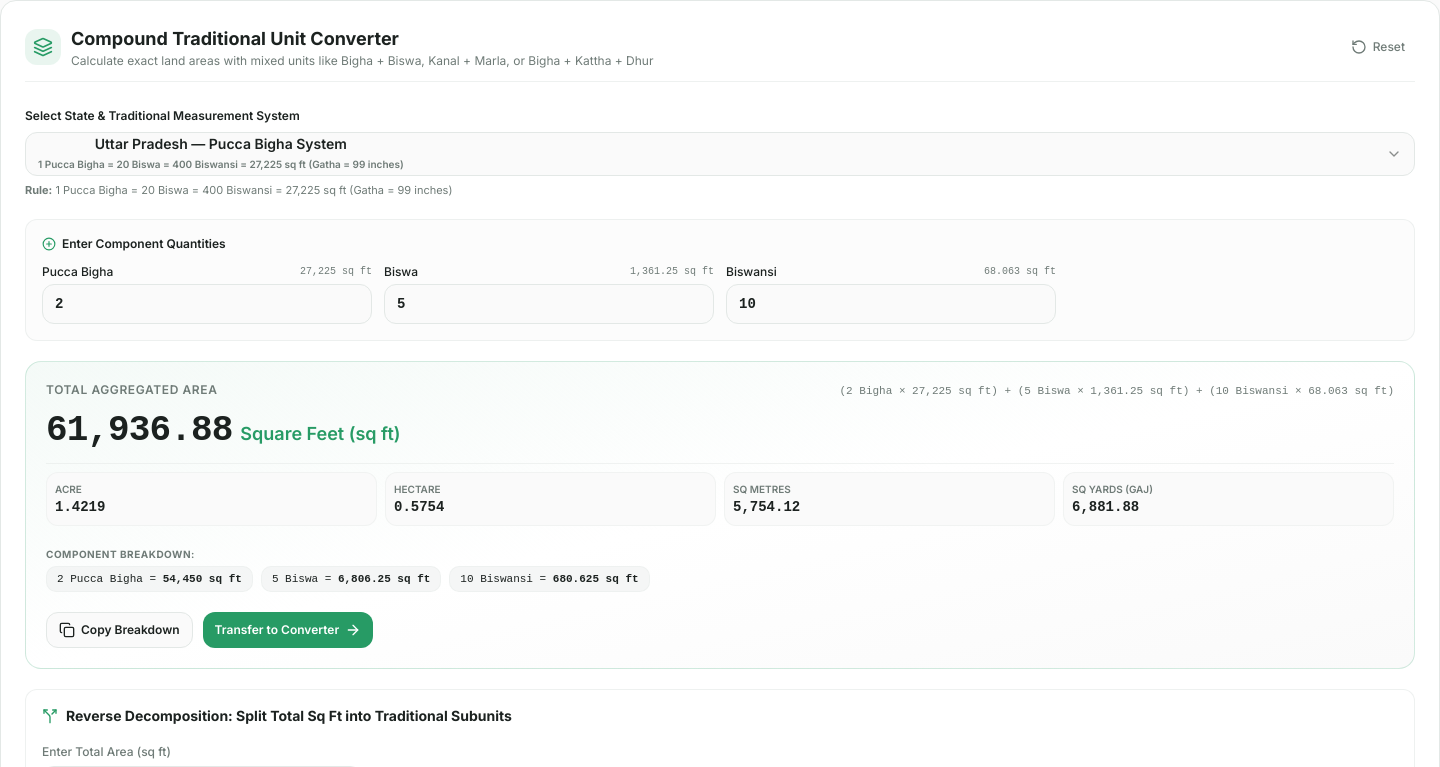
Test: PR #2 Pre-Merge Remediation Suite › Compound Quantity Validation & TypeScript Integrity (COMPOUND-001 - COMPOUND-019, TYPE-001 - TYPE-002) › COMPOUND-019: Valid zeros remain distinct from invalid input
Replace the text in the field labelled "Pucca Bigha" with "0" at [207, 304], box [42,284,372,324]
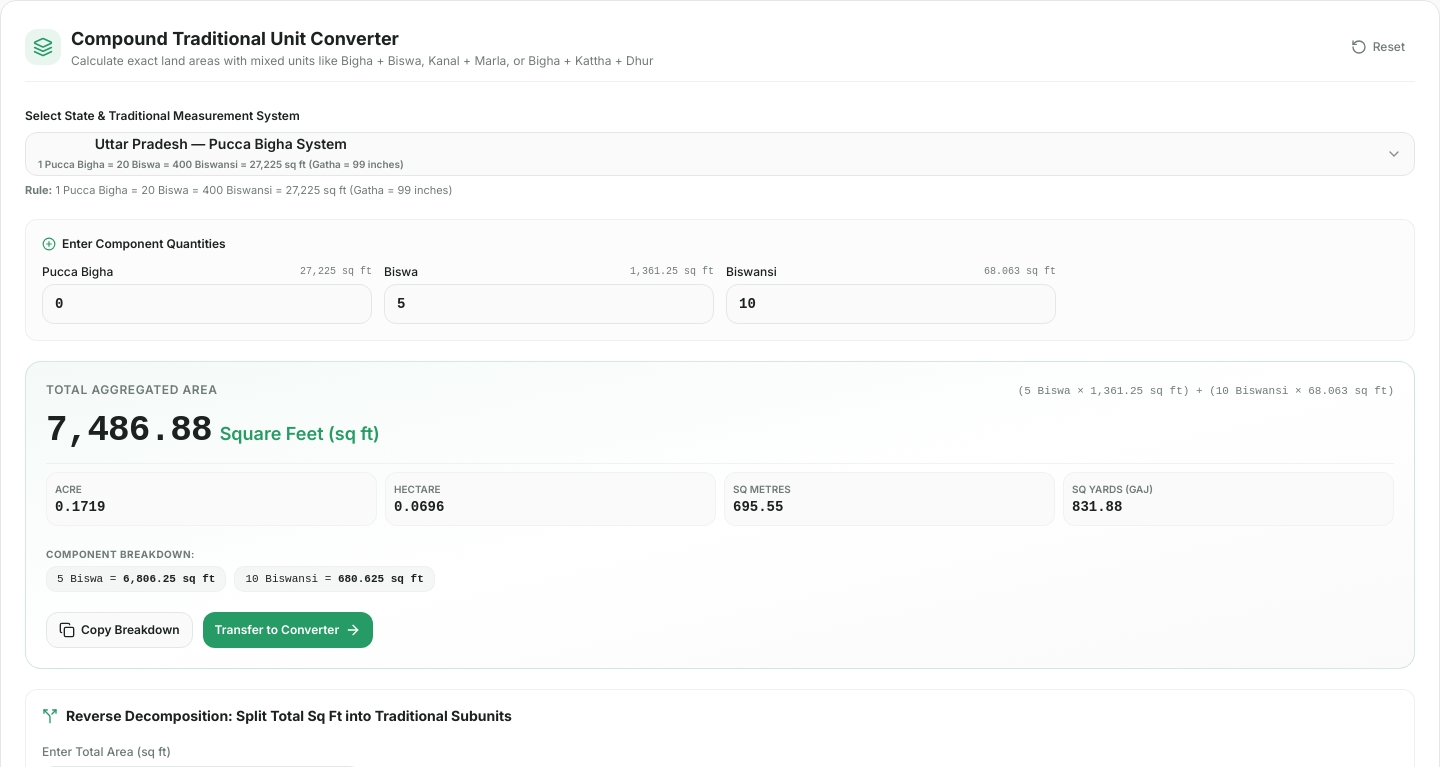
Type "invalid" into the field labelled "Pucca Bigha" at [207, 304], box [42,284,372,324]
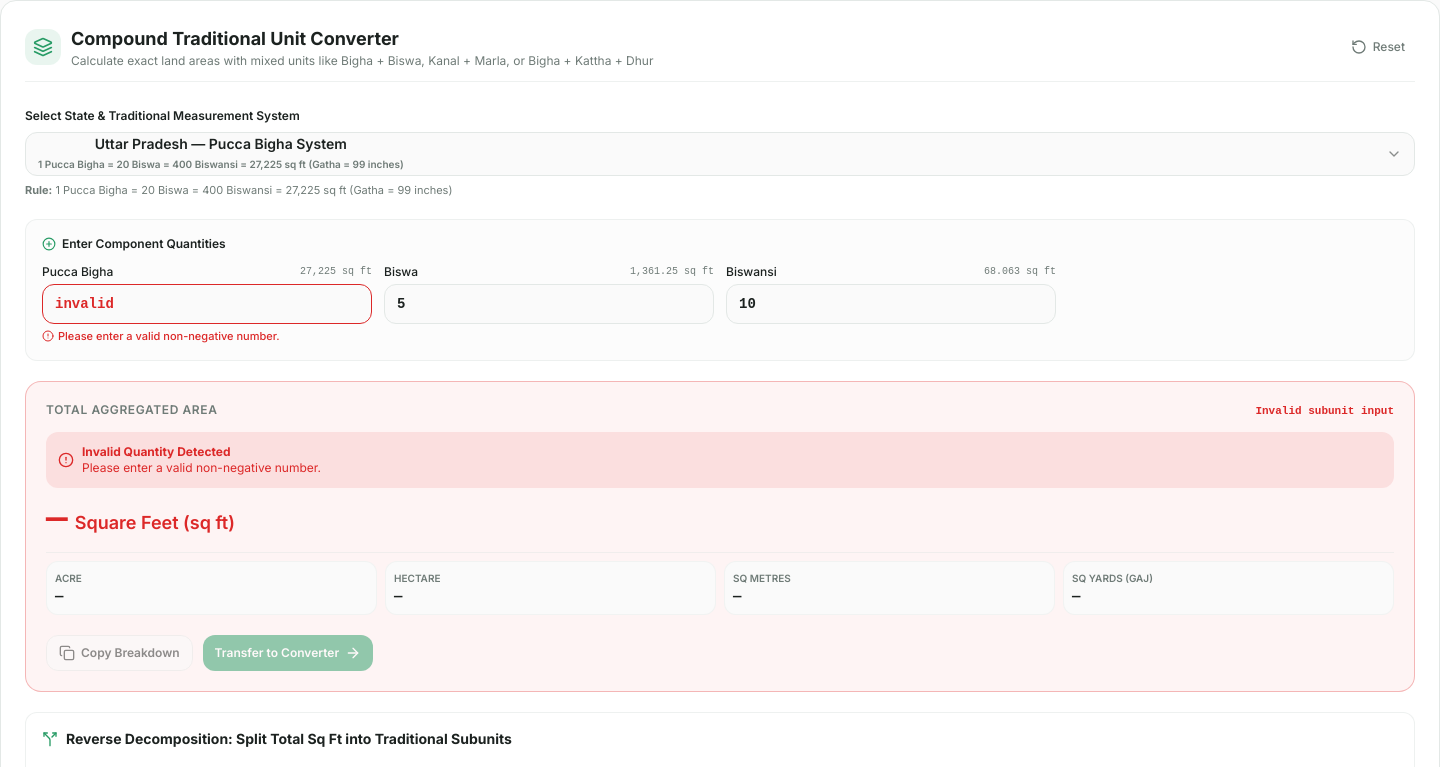
Now the field labelled "Pucca Bigha" is marked as invalid, box [42,284,372,324]
Now the field labelled "Pucca Bigha" has attribute aria-describedby="sub-error-bigha", box [42,284,372,324]
